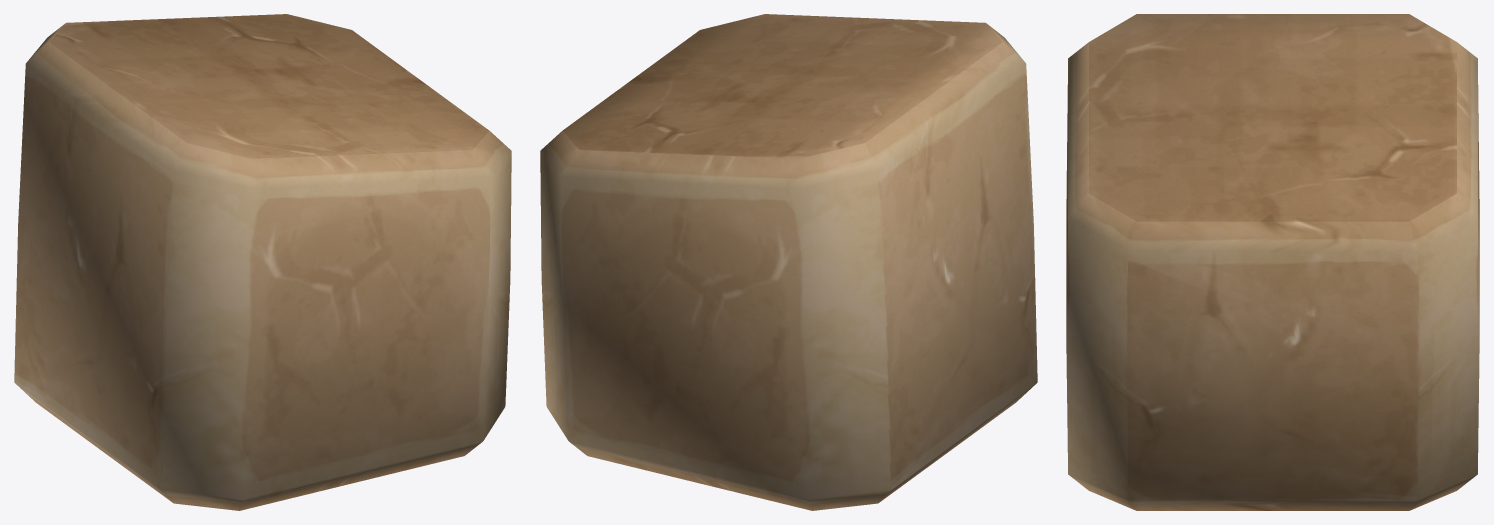
The model's file is DE_House_Mod_Part_58.fbx.
3 views of the same model, side by side, from view 1: azimuth 30°, elevation 25°; view 2: azimuth 150°, elevation 25°; view 3: azimuth 270°, elevation 25° (orthographic).
Visible parts, largest first — view 1: DE_House_Mod_Part_58; view 2: DE_House_Mod_Part_58; view 3: DE_House_Mod_Part_58.
Part boxes in pixels (x1=…): DE_House_Mod_Part_58: x1=14, y1=14, x2=511, y2=510; DE_House_Mod_Part_58: x1=540, y1=14, x2=1037, y2=510; DE_House_Mod_Part_58: x1=1066, y1=14, x2=1479, y2=510.
Bounding box in the file's own units: 0.6478 × 0.6302 × 0.6665.
